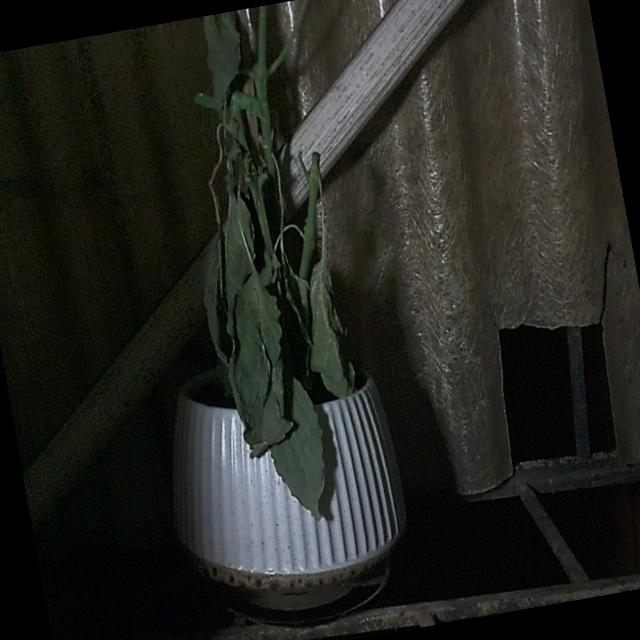Leaf: (214, 268, 304, 460)
